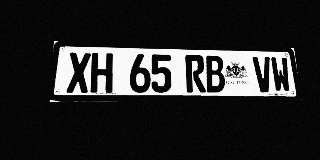5: (151, 54, 172, 93)
6: (130, 54, 151, 93)
B: (204, 55, 226, 92)
H: (90, 53, 113, 93)
R: (185, 55, 206, 92)
V: (252, 57, 274, 92)
W: (270, 57, 291, 92)
X: (66, 52, 91, 93)
